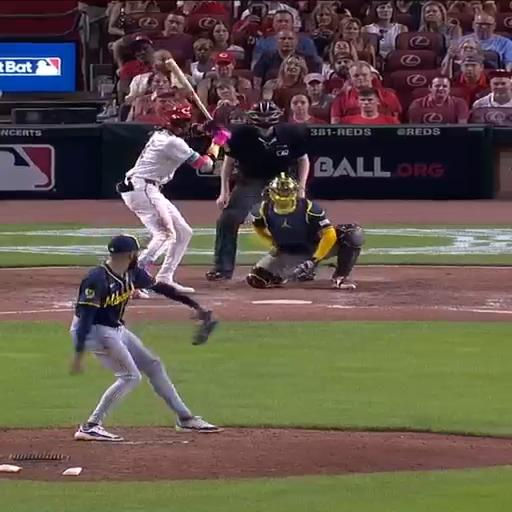bat: (165, 58, 212, 120), (166, 58, 212, 120)
